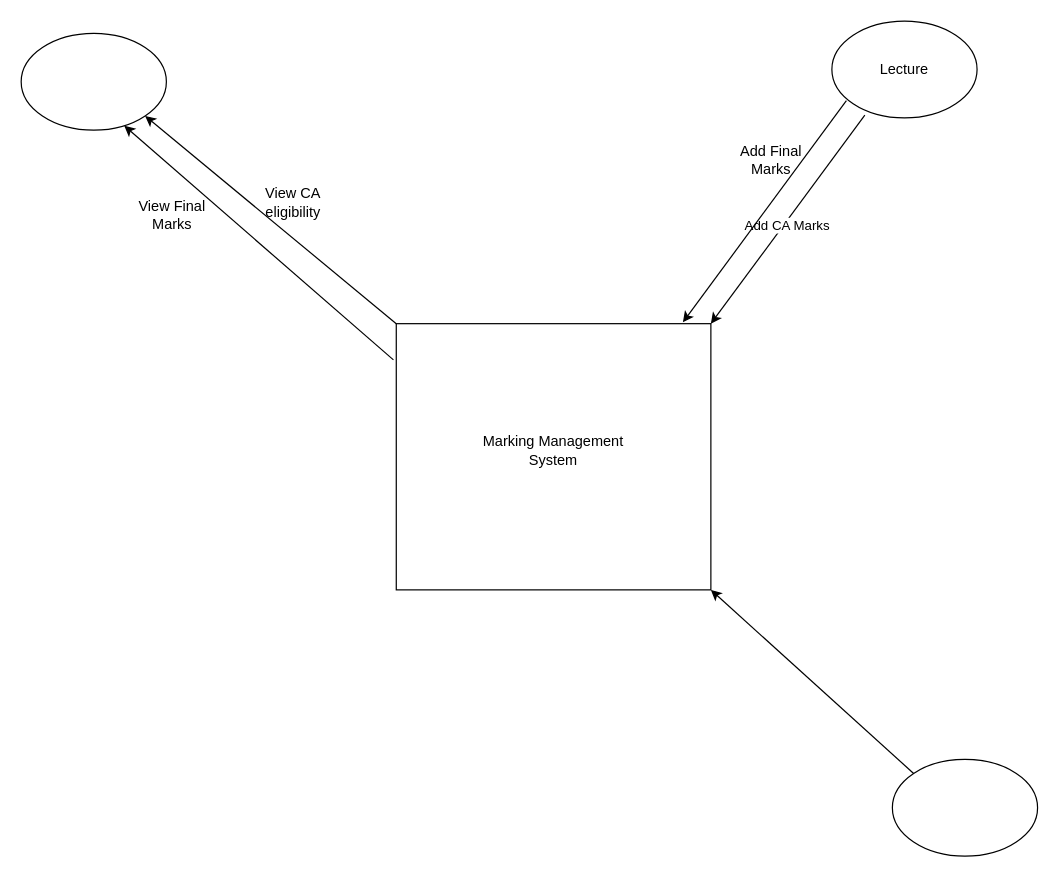
Image size: 1059x877. Some labels were removed from this diagram. Each missing label, with the centre of its shape:
"HOD" belongs at pixel 964 807.
"Student" belongs at pixel 93 81.
